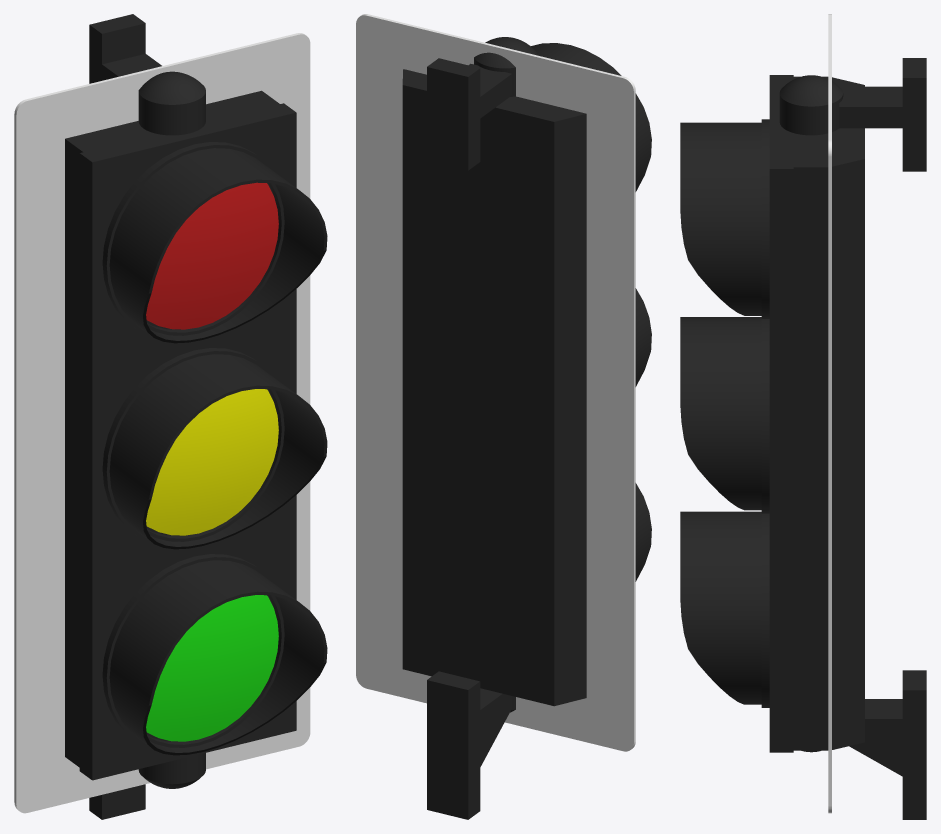
Rendered from model_trafficLight (1).FBX.
The picture shows the model from 3 angles, left to right: view 1: azimuth 30°, elevation 25°; view 2: azimuth 150°, elevation 25°; view 3: azimuth 270°, elevation 25°; orthographic projection. The views are drawn at different scales.
Visible parts, largest first — view 1: Svetofor, Ekran, 3, 1, 2; view 2: Svetofor, Ekran; view 3: Svetofor, Ekran.
Part boxes in pixels (x1,y1,x2,y2): Svetofor: (65, 14, 327, 819); Ekran: (14, 33, 310, 813); 3: (146, 182, 278, 329); 1: (146, 595, 278, 741); 2: (146, 389, 278, 535); Svetofor: (402, 37, 651, 819); Ekran: (356, 14, 635, 751); Svetofor: (680, 58, 926, 819); Ekran: (828, 14, 831, 813).
Size of the model in its own units: 20.63 by 52.72 by 15.86.
